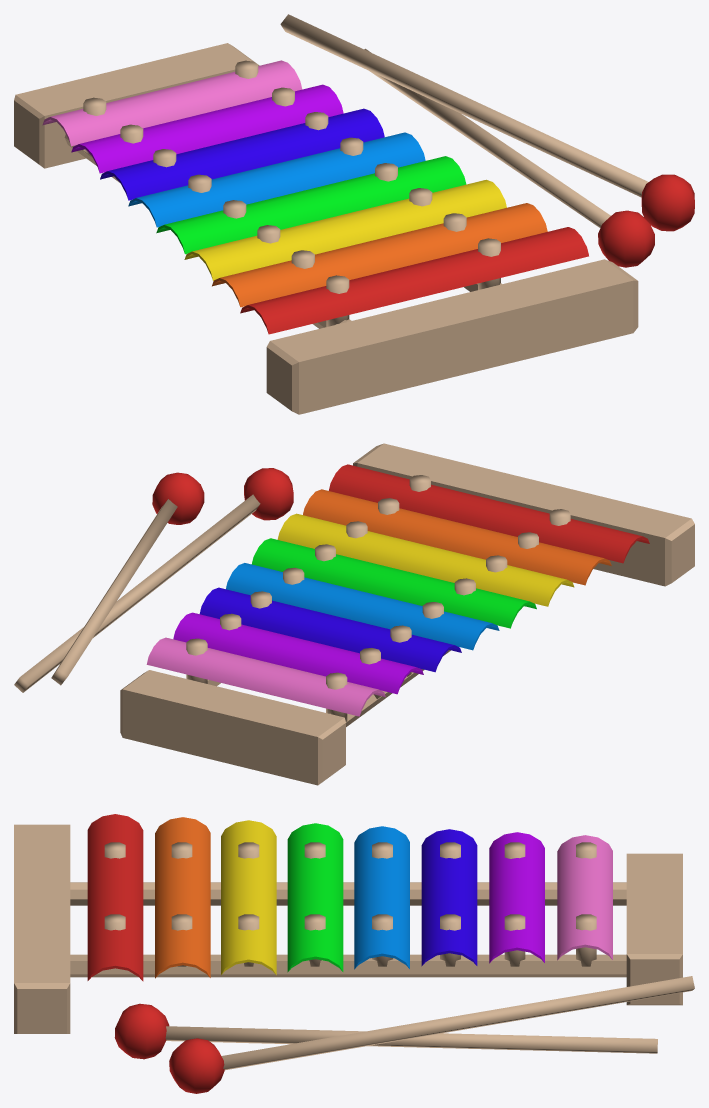
File: xylo.fbx
The picture shows the model from 3 angles, top to bottom: view 1: azimuth 30°, elevation 25°; view 2: azimuth 150°, elevation 25°; view 3: azimuth 270°, elevation 25°; orthographic projection. The views are drawn at different scales.
Visible parts, largest first — view 1: base.001, red, orange, baton.001, yellow, green, blue, dark blue, purple, pink, baton, soutien; view 2: base.001, red, orange, yellow, green, blue, dark blue, purple, pink, baton, soutien, baton.001; view 3: base.001, baton.001, baton, red, orange, yellow, green, blue, dark blue, soutien, purple, pink.
Boxes of the visible parts, x1,y1,x2,y2 form: base.001: [14, 43, 638, 414]; red: [240, 227, 588, 334]; orange: [212, 203, 547, 307]; baton.001: [280, 14, 694, 231]; yellow: [184, 179, 506, 280]; green: [156, 156, 466, 254]; blue: [128, 132, 425, 227]; dark blue: [100, 108, 384, 200]; purple: [71, 84, 343, 173]; pink: [42, 60, 302, 146]; baton: [364, 48, 654, 267]; soutien: [83, 60, 500, 326]; base.001: [120, 443, 694, 785]; red: [328, 464, 649, 563]; orange: [303, 489, 611, 585]; yellow: [277, 513, 574, 606]; green: [251, 538, 536, 628]; blue: [226, 563, 499, 650]; dark blue: [199, 587, 461, 672]; purple: [173, 612, 423, 694]; pink: [146, 637, 385, 716]; baton: [14, 468, 293, 692]; soutien: [186, 475, 570, 722]; baton.001: [51, 472, 204, 685]; base.001: [14, 824, 682, 1033]; baton.001: [169, 976, 694, 1093]; baton: [114, 1003, 657, 1059]; red: [87, 814, 143, 981]; orange: [155, 817, 210, 978]; yellow: [221, 820, 276, 975]; green: [287, 823, 343, 972]; blue: [354, 826, 409, 969]; dark blue: [421, 829, 477, 966]; soutien: [104, 842, 596, 966]; purple: [489, 832, 544, 963]; pink: [557, 835, 612, 960].
Size of the model in its own units: 808 by 116 by 995.
